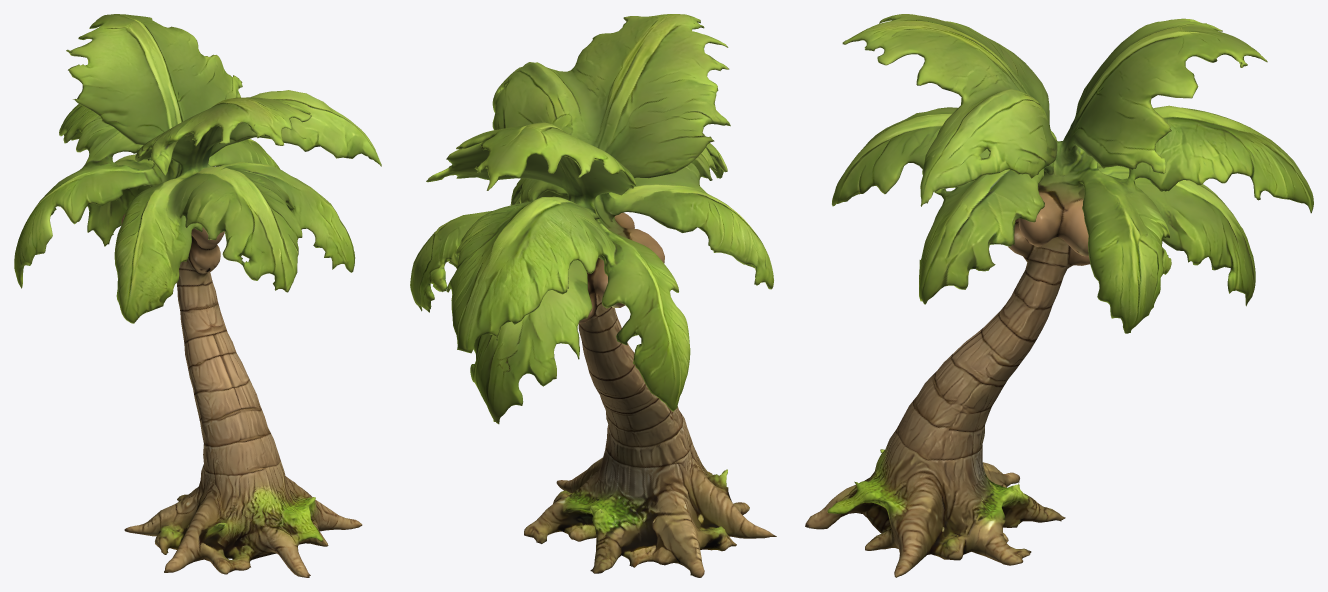
The model's file is tree-palm-hyper3d.glb.
3 renders of one model, left to right at view 1: azimuth 30°, elevation 25°; view 2: azimuth 150°, elevation 25°; view 3: azimuth 270°, elevation 25°, orthographic. The views are drawn at different scales.
Parts seen in each view (by area): view 1: model; view 2: model; view 3: model.
Part boxes in pixels (x1,y1,x2,y2): model: (14, 14, 381, 577); model: (410, 14, 776, 577); model: (805, 14, 1313, 577).
Size of the model in its own units: 1.17 by 1.89 by 1.74.
Materials: 1 (1 with a texture image).
